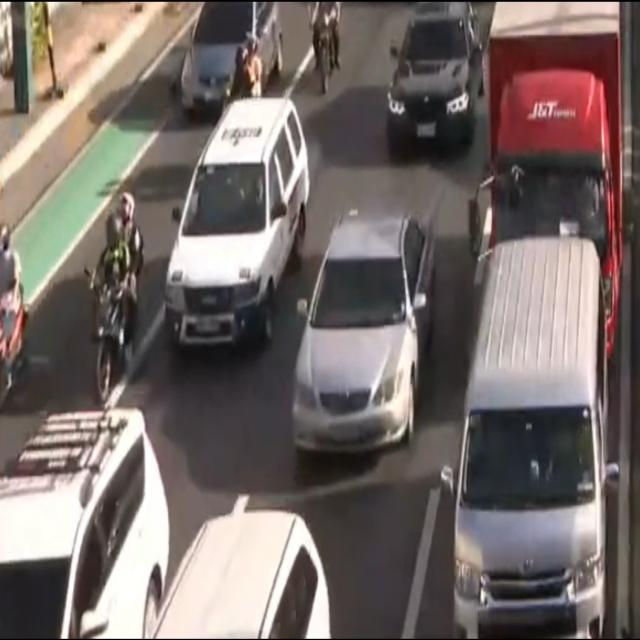Motorcycle: (78, 176, 151, 412), (303, 0, 346, 102), (230, 28, 262, 107)
SUV: (163, 99, 307, 363), (0, 412, 162, 640), (141, 515, 332, 640)
Sedan: (293, 208, 437, 444), (388, 0, 477, 159), (177, 0, 278, 117)
Truck: (471, 0, 625, 360)
Van: (460, 241, 607, 640)
